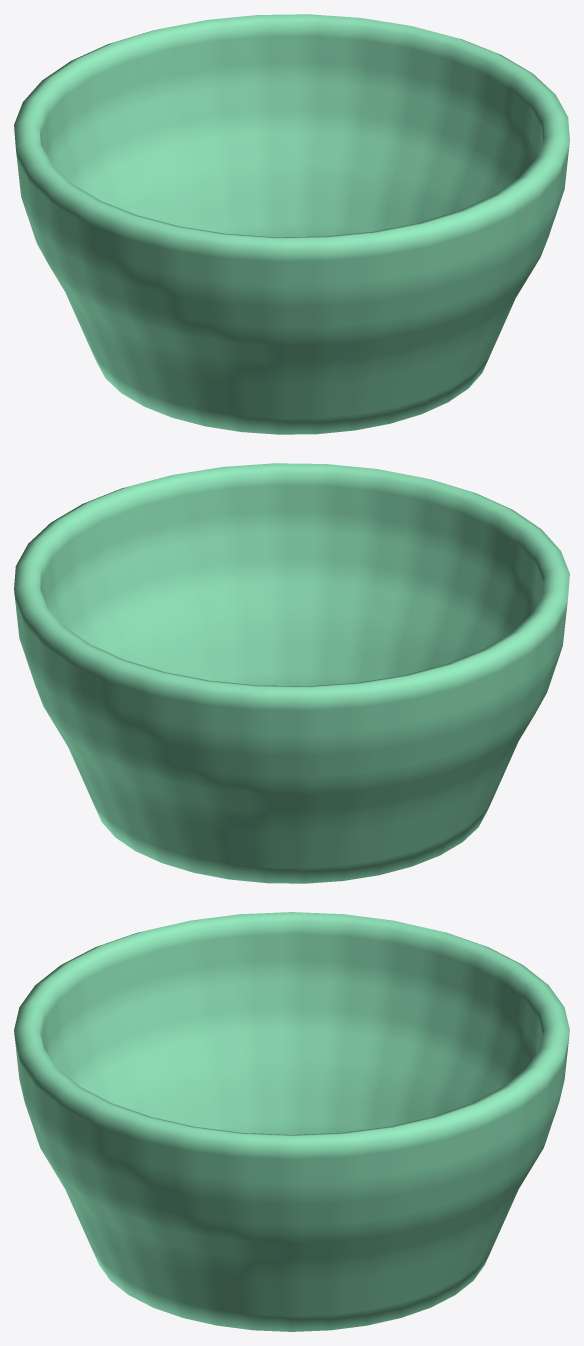
File: bowl.fbx
The picture shows the model from 3 angles, top to bottom: view 1: azimuth 30°, elevation 25°; view 2: azimuth 150°, elevation 25°; view 3: azimuth 270°, elevation 25°; orthographic projection.
Visible parts, largest first — view 1: Sphere; view 2: Sphere; view 3: Sphere.
Part boxes in pixels (<box>): Sphere: <box>14,14,569,434</box>; Sphere: <box>14,463,569,883</box>; Sphere: <box>14,912,569,1331</box>.
Bounding box in the file's own units: 200 × 89.17 × 200.
